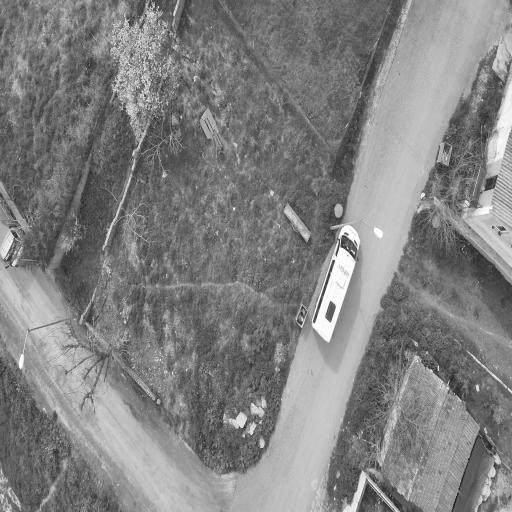car: (311, 224, 358, 341), (0, 197, 22, 268)
